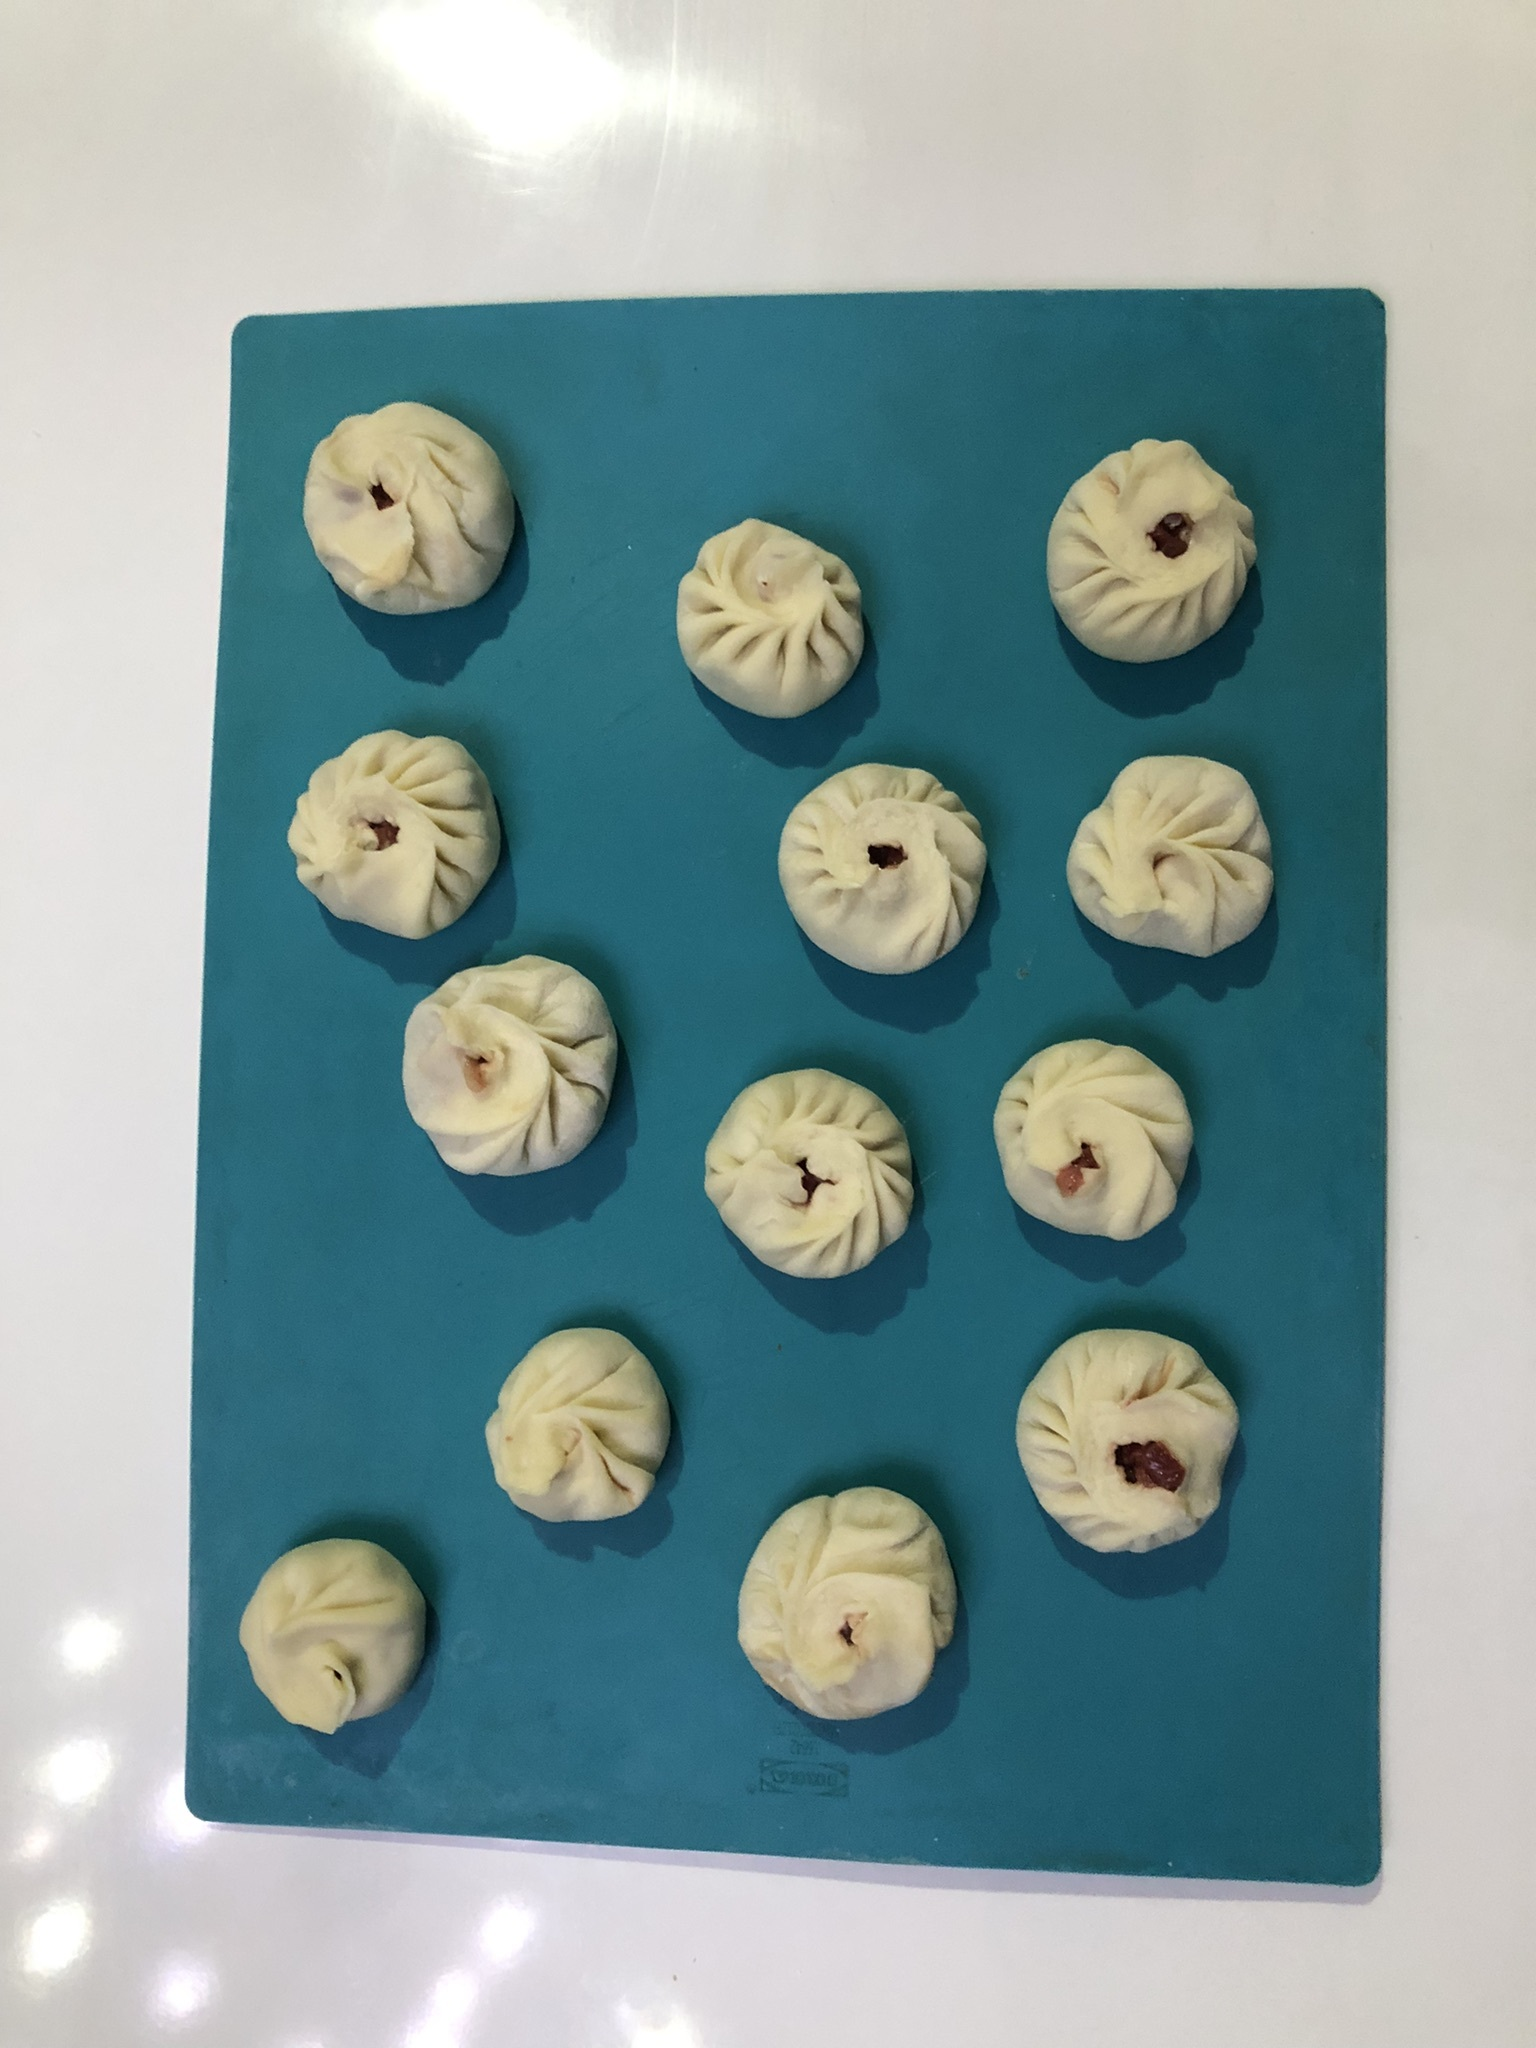buuz: (729, 1472, 975, 1748), (1008, 1317, 1257, 1571), (294, 381, 529, 627), (1037, 427, 1270, 677), (394, 943, 628, 1190), (281, 716, 529, 948), (1055, 739, 1294, 972), (695, 1058, 926, 1293), (766, 751, 994, 984), (983, 1026, 1204, 1251), (224, 1521, 440, 1751), (662, 506, 878, 726), (478, 1313, 678, 1526)
